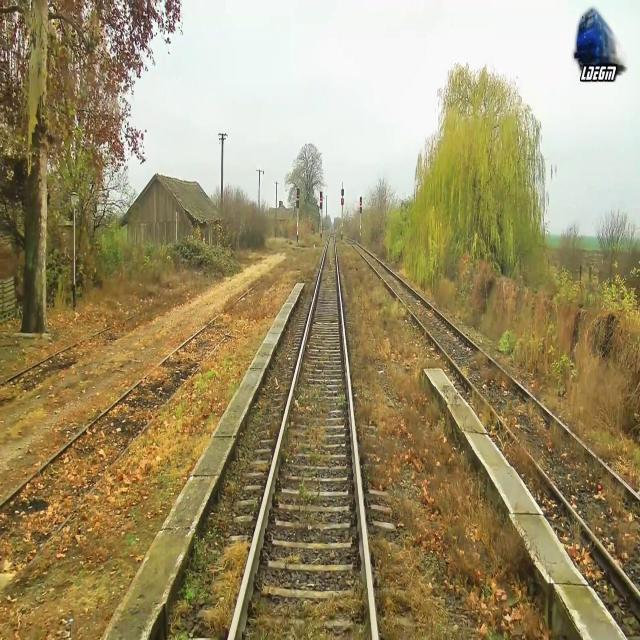rail-track: (347, 239, 640, 588), (0, 253, 294, 594), (233, 227, 372, 639)
